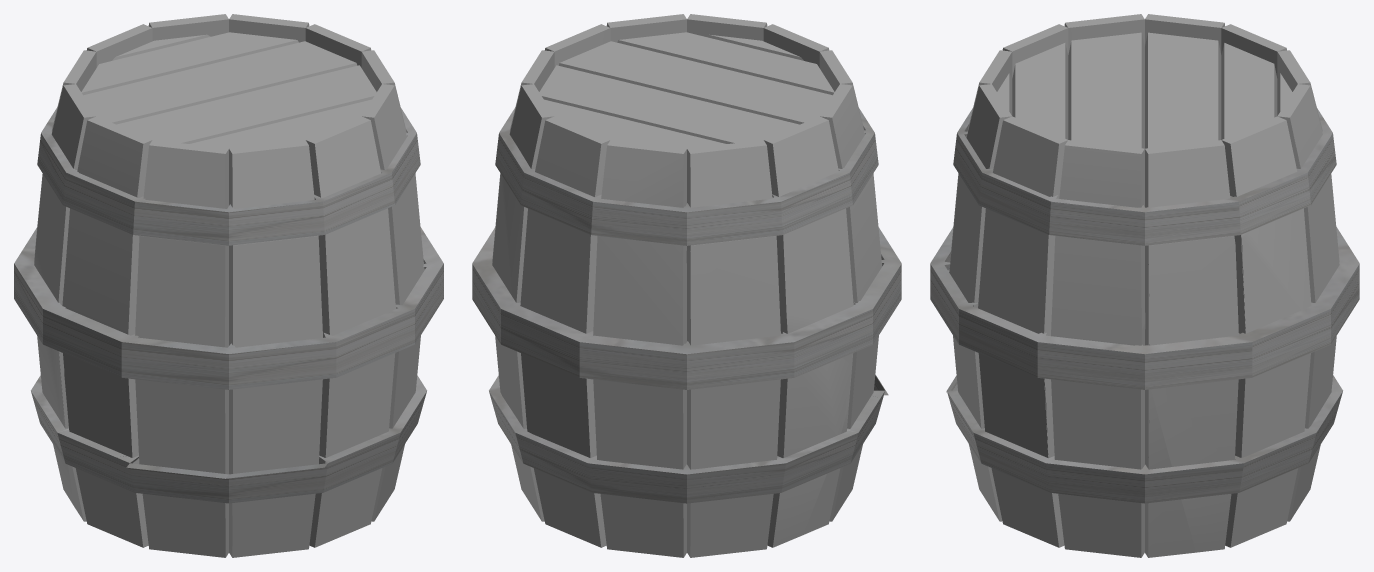
The model's file is Breakable_Barrell.fbx.
The picture shows the model from 3 angles, left to right: view 1: azimuth 30°, elevation 25°; view 2: azimuth 150°, elevation 25°; view 3: azimuth 270°, elevation 25°; orthographic projection.
Visible parts, largest first — view 1: polySurface65, polySurface68, polySurface69; view 2: polySurface69, polySurface65, polySurface68; view 3: polySurface69, polySurface65, polySurface68.
Boxes of the visible parts, x1,y1,x2,y2 form: polySurface65: (62,50,424,347); polySurface68: (22,227,443,557); polySurface69: (14,14,371,506); polySurface69: (472,48,865,557); polySurface65: (545,14,882,302); polySurface68: (803,227,901,534); polySurface69: (1059,14,1359,552); polySurface65: (949,14,1144,345); polySurface68: (930,227,1196,557).
Size of the model in its own units: 283 by 293 by 283.
